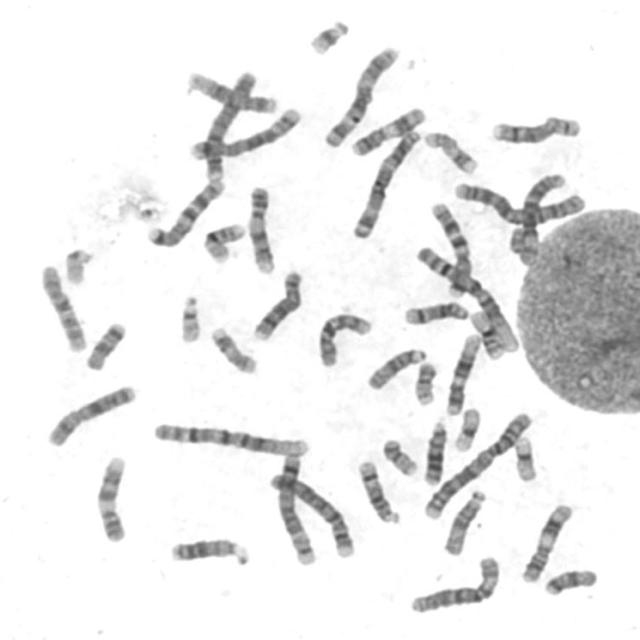A1: (411, 241, 519, 359), (147, 414, 313, 459)
A2: (418, 405, 536, 521), (448, 175, 588, 226)
A3: (318, 39, 402, 150), (346, 123, 424, 240)
B4: (264, 465, 358, 560), (200, 66, 260, 182)
B5: (185, 101, 305, 162), (270, 445, 318, 568)
C10: (34, 258, 90, 354), (311, 306, 374, 369)
C11: (515, 498, 575, 584), (344, 100, 428, 158)
C12: (181, 65, 279, 115), (440, 327, 483, 417)
C6: (403, 550, 502, 615), (517, 163, 574, 265)
C7: (141, 172, 227, 249), (424, 196, 474, 300)
C8: (247, 264, 305, 343), (486, 109, 584, 145)
C9: (89, 449, 130, 544), (242, 180, 278, 276)
D13: (164, 532, 252, 567), (418, 414, 450, 486)
D14: (352, 454, 402, 526), (398, 296, 472, 326)
D15: (437, 483, 489, 557), (361, 342, 428, 392)
E16: (198, 217, 248, 264), (465, 304, 506, 360)
E17: (418, 125, 481, 176), (204, 320, 260, 376)
E18: (80, 315, 128, 372), (538, 563, 600, 598)
F19: (448, 401, 482, 454), (508, 430, 540, 483)
F20: (376, 433, 420, 478), (409, 356, 440, 407)
G21: (303, 12, 352, 57), (504, 228, 528, 259)
G22: (172, 288, 204, 344), (58, 242, 96, 286)
X: (40, 378, 138, 449)
